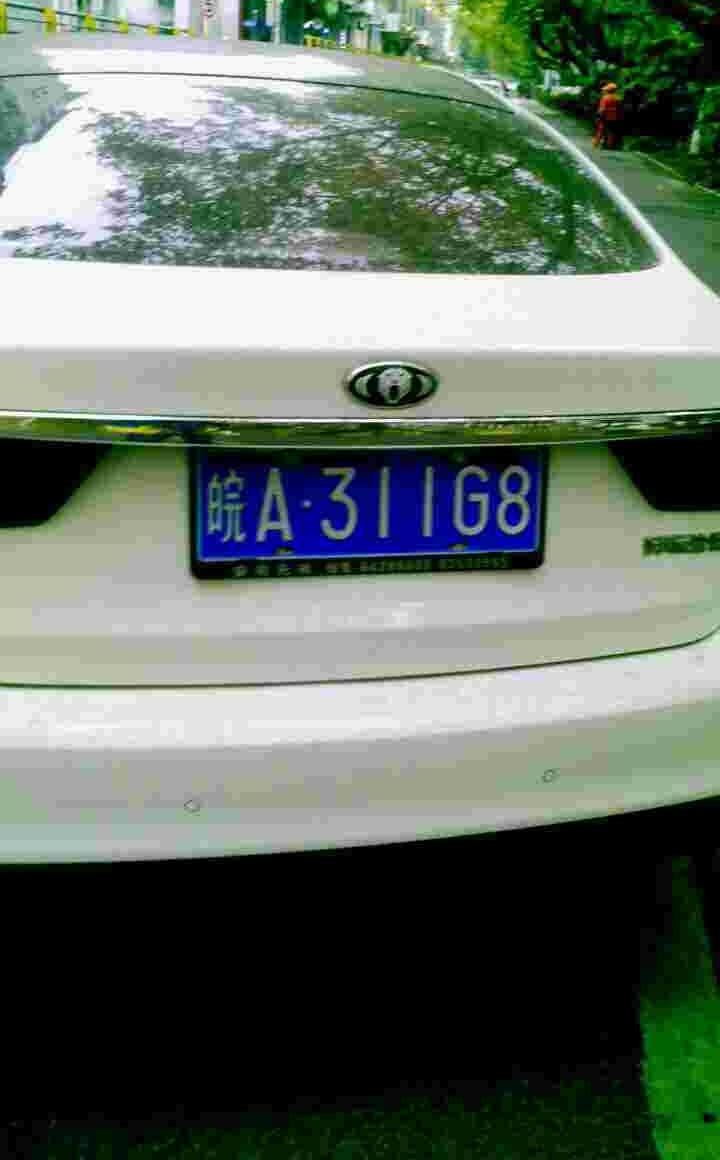license_plate: (194, 456, 541, 555)
